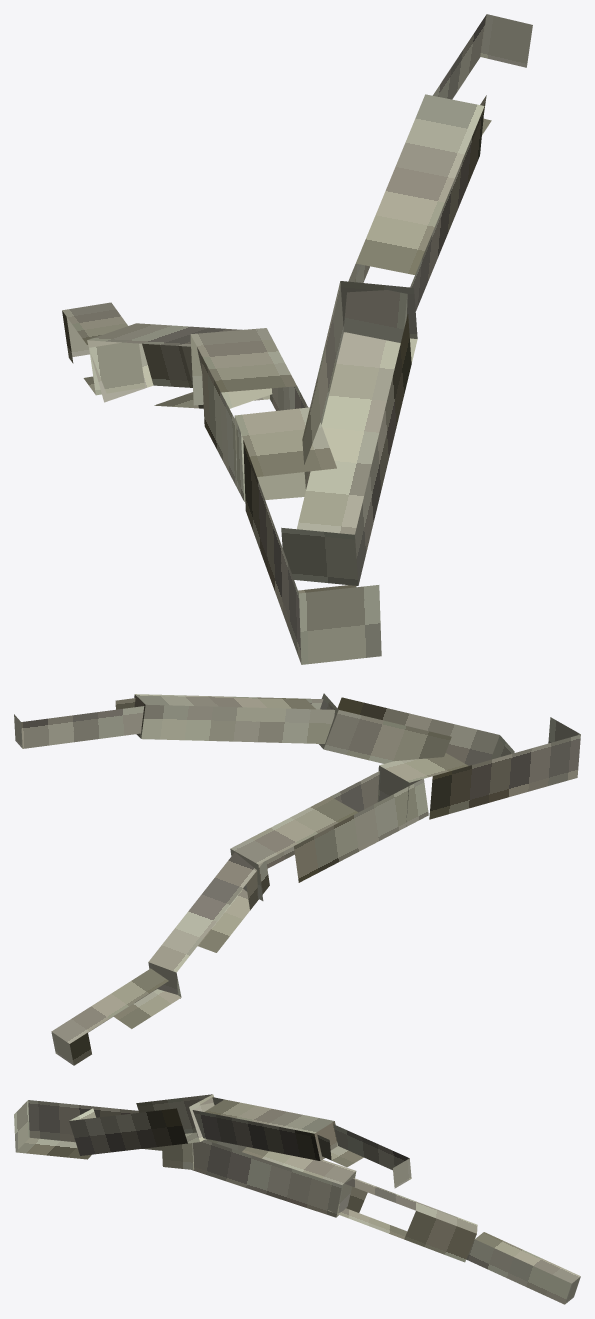
Rendered from birch_twig_branch_2.obj.
3 renders of one model, top to bottom at view 1: azimuth 30°, elevation 25°; view 2: azimuth 150°, elevation 25°; view 3: azimuth 270°, elevation 25°, orthographic. The views are drawn at different scales.
Parts seen in each view (by area): view 1: cube; view 2: cube; view 3: cube.
Boxes of the visible parts, box(x1,y1,x2,y2) form: cube: box(62, 14, 532, 664); cube: box(14, 693, 580, 1065); cube: box(14, 1094, 580, 1304).
Bounding box in the file's own units: 1.97 × 1.29 × 3.23.
